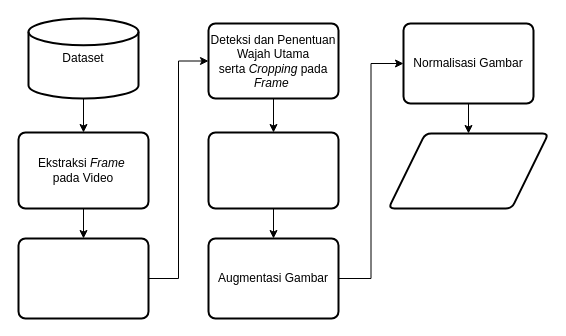
Some shapes in this 566 by 336 pixel diagram are drawn without their labels. Each missing label, with the centre of its shape:
Gambar Bersih Siap untuk Pemodelan: point (468, 170)
Pemberian Label pada Setiap Frame: point (83, 278)
Pengubahan Ukuran Gambar Sesuai Input Model: point (273, 170)
